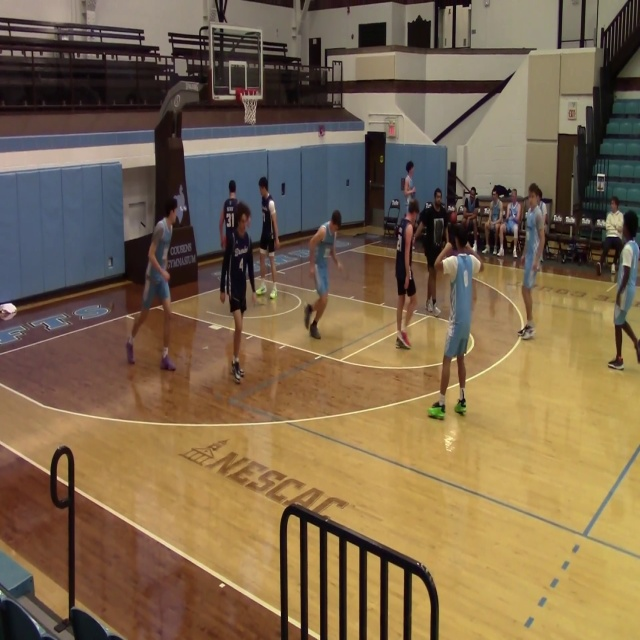Basketball: (442, 255, 458, 282), (463, 333, 475, 356), (0, 303, 16, 315), (256, 282, 266, 295), (449, 212, 457, 223)
